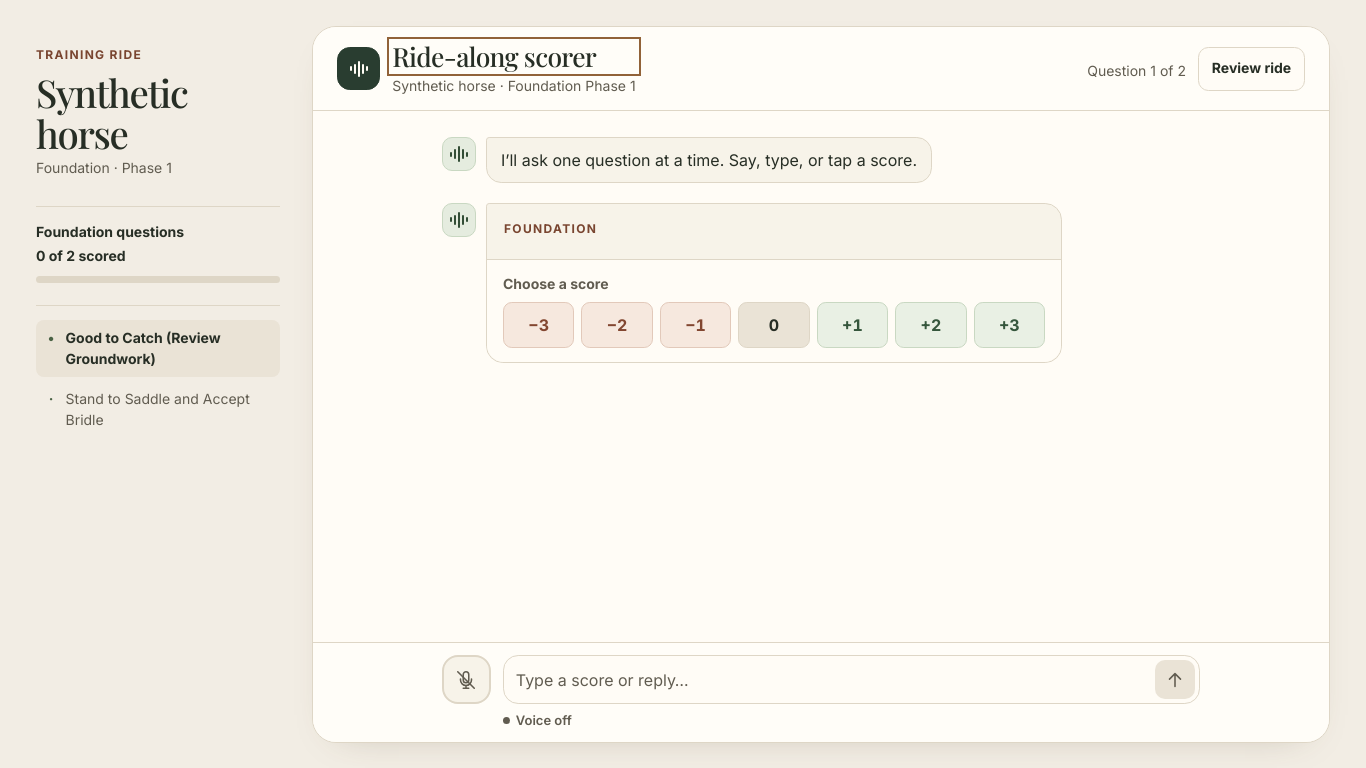
keeps invalid written input 4 on the same question without an inference or write
Type "4" into the field named "Type a message". click: {"x": 830, "y": 680}
box: [508, 663, 1151, 697]
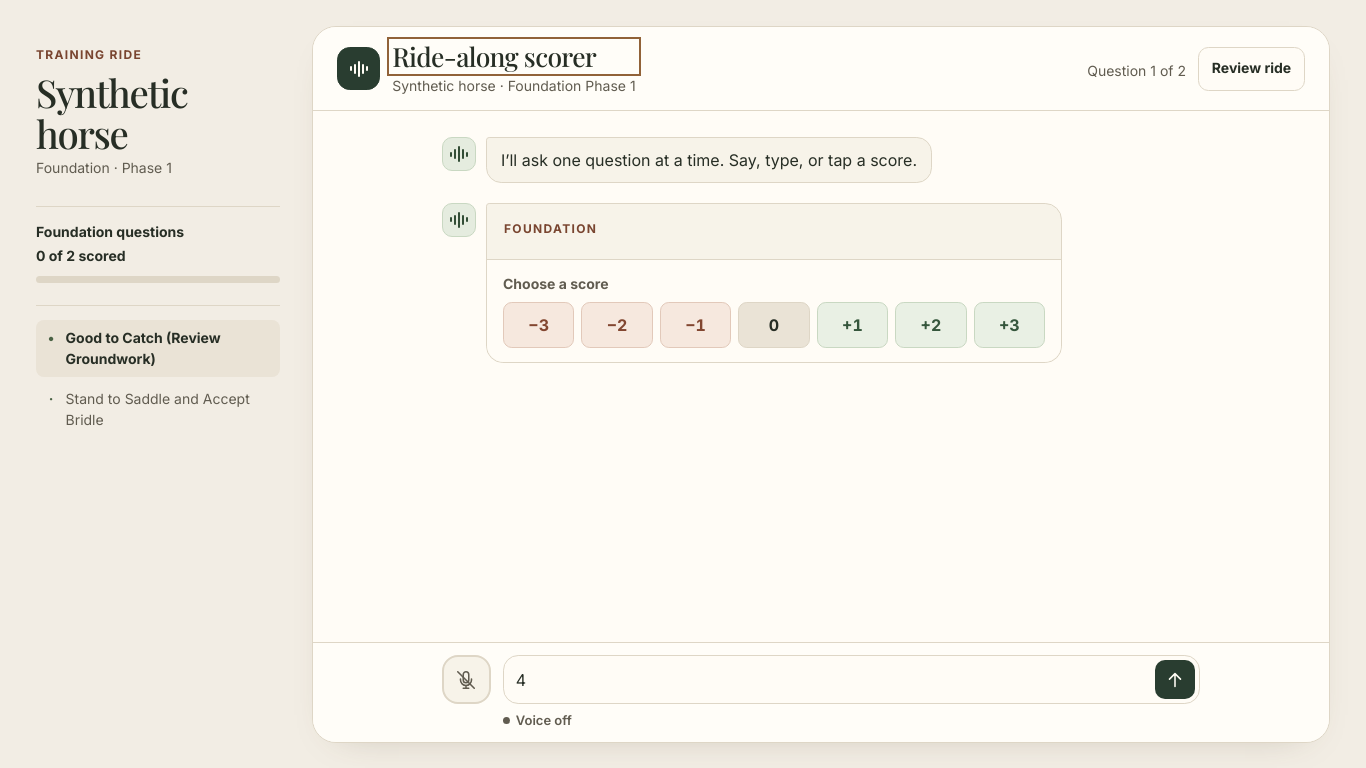
Click the button named "Send message". click: {"x": 1175, "y": 680}
box: [1155, 660, 1195, 699]
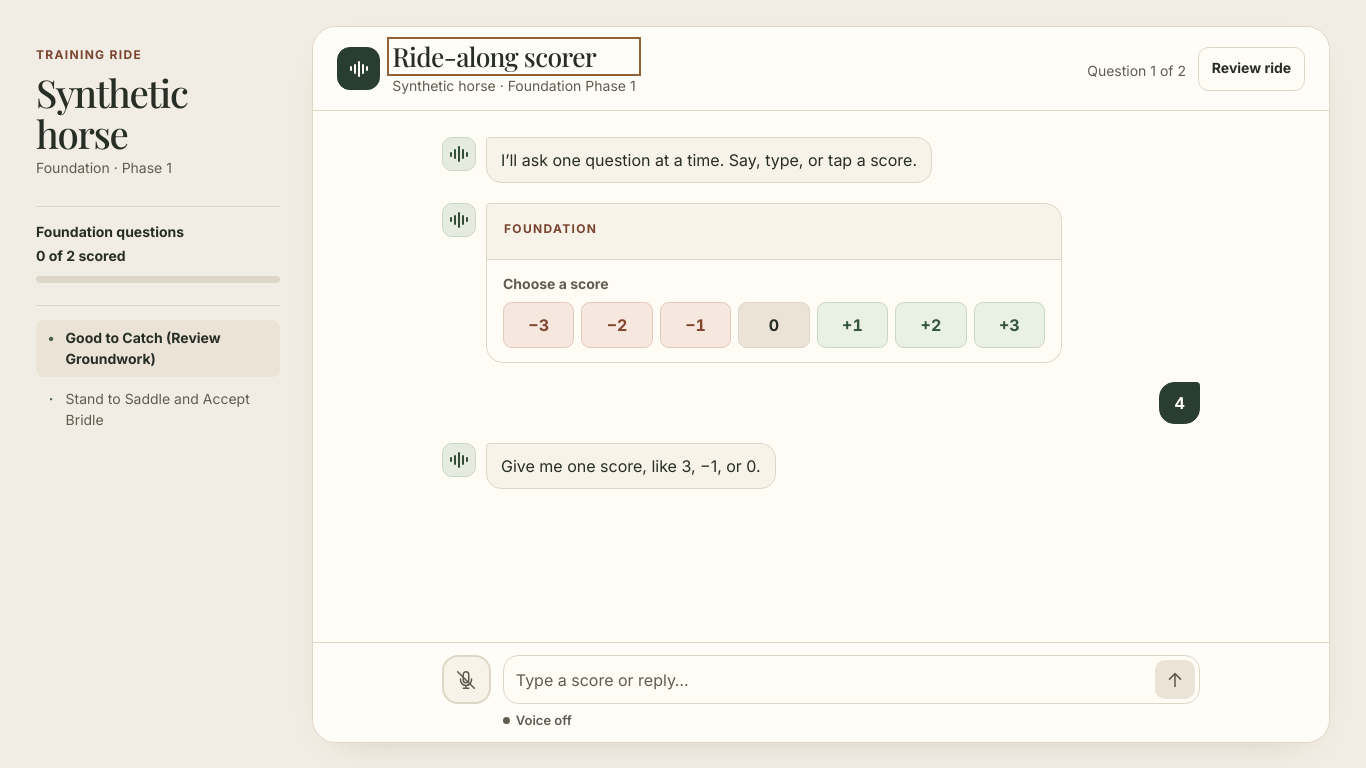
Result: the text "Give me one score, like 3, −1, or 0." is shown at [486, 443, 776, 489]
